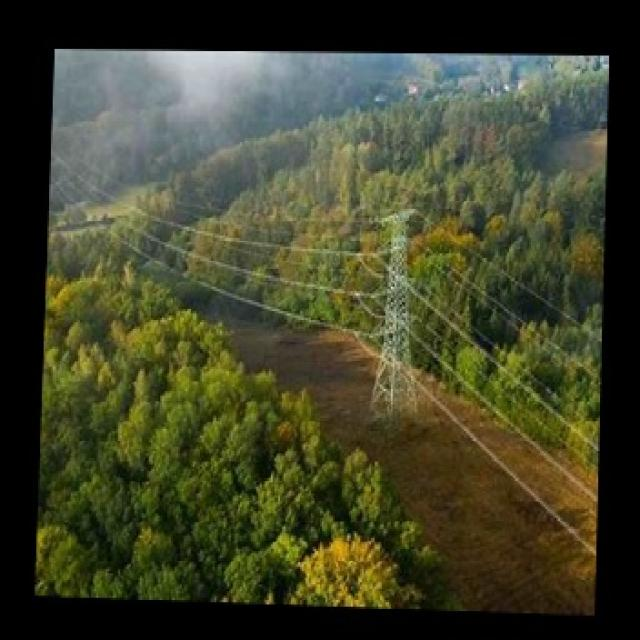utility poles: (346, 169, 444, 430)
